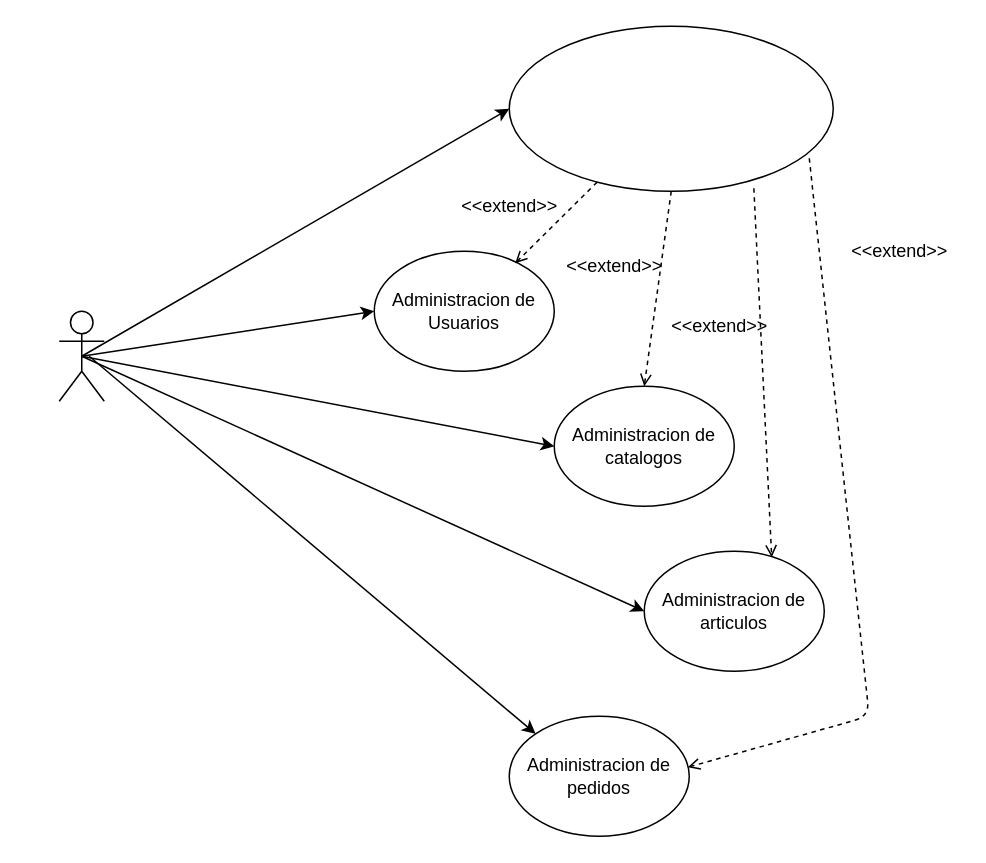
The diagram is 986 pixels wide and 863 high, and some of its shapes have lost their labels. The box of each missing label's shape, as (x1, y1, x2, y2) in pixels:
Administrador: (58, 310, 104, 401)
Identificacion en la aplicacion: (508, 25, 833, 191)
